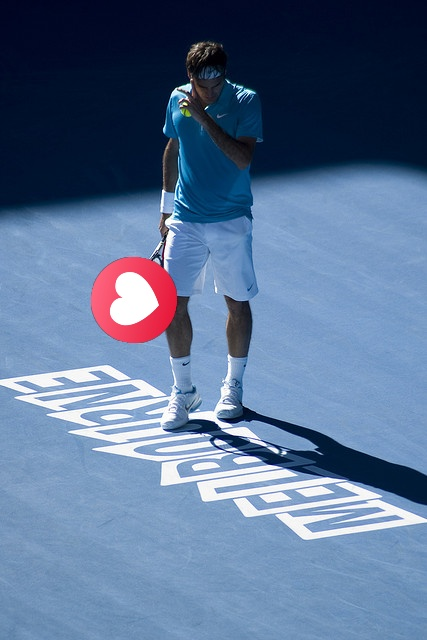love: (91, 257, 177, 343)
